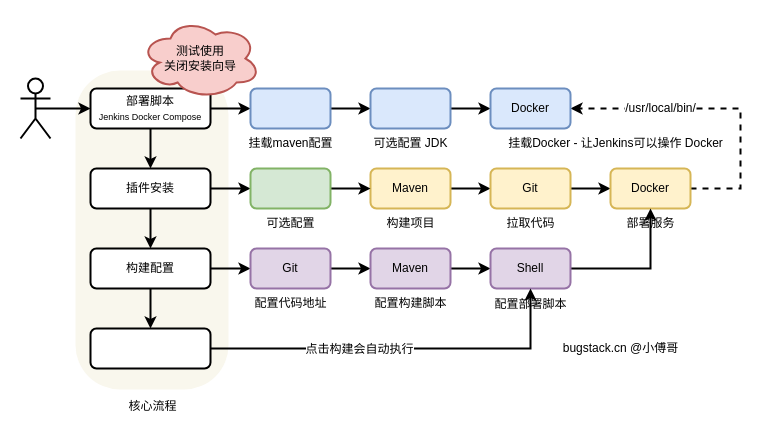
Some shapes in this 766 by 436 pixel diagram are drawn without their labels. Each missing label, with the box of its shape:
JDK1.8: (369, 87, 451, 129)
maven settings.xml: (249, 87, 331, 129)
发布项目: (89, 327, 211, 369)
小傅哥: (19, 77, 51, 139)
汉化 Chinese: (249, 167, 331, 209)
